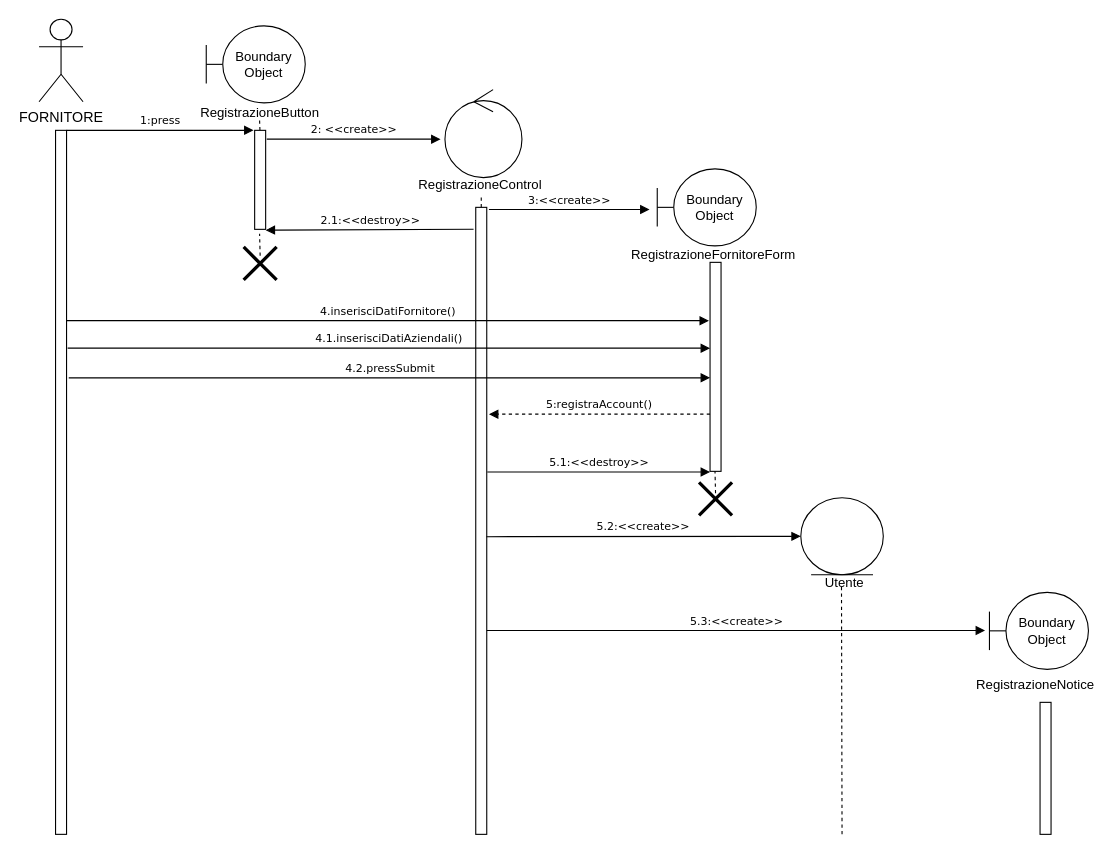
Image size: 1120x855. Some labels were removed from this diagram. Each missing label, with the centre of its shape:
"Control Object" belongs at (x=483, y=133).
"Entity Object" belongs at (x=841, y=536).
